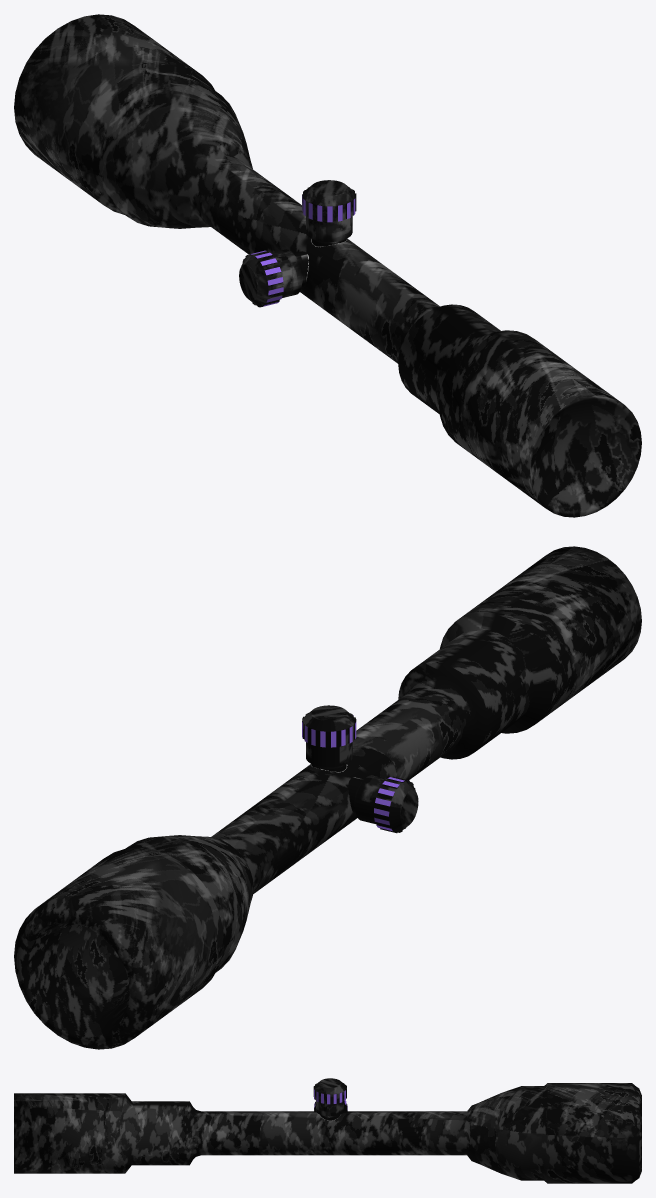
The model's file is untitscopeled.fbx.
3 renders of one model, top to bottom at view 1: azimuth 30°, elevation 25°; view 2: azimuth 150°, elevation 25°; view 3: azimuth 270°, elevation 25°, orthographic. The views are drawn at different scales.
Visible parts, largest first — view 1: Circle; view 2: Circle; view 3: Circle.
Part boxes in pixels (<box>): Circle: <box>14,14,641,517</box>; Circle: <box>14,546,641,1049</box>; Circle: <box>14,1078,641,1183</box>.
Size of the model in its own units: 23.19 by 22.78 by 135.
